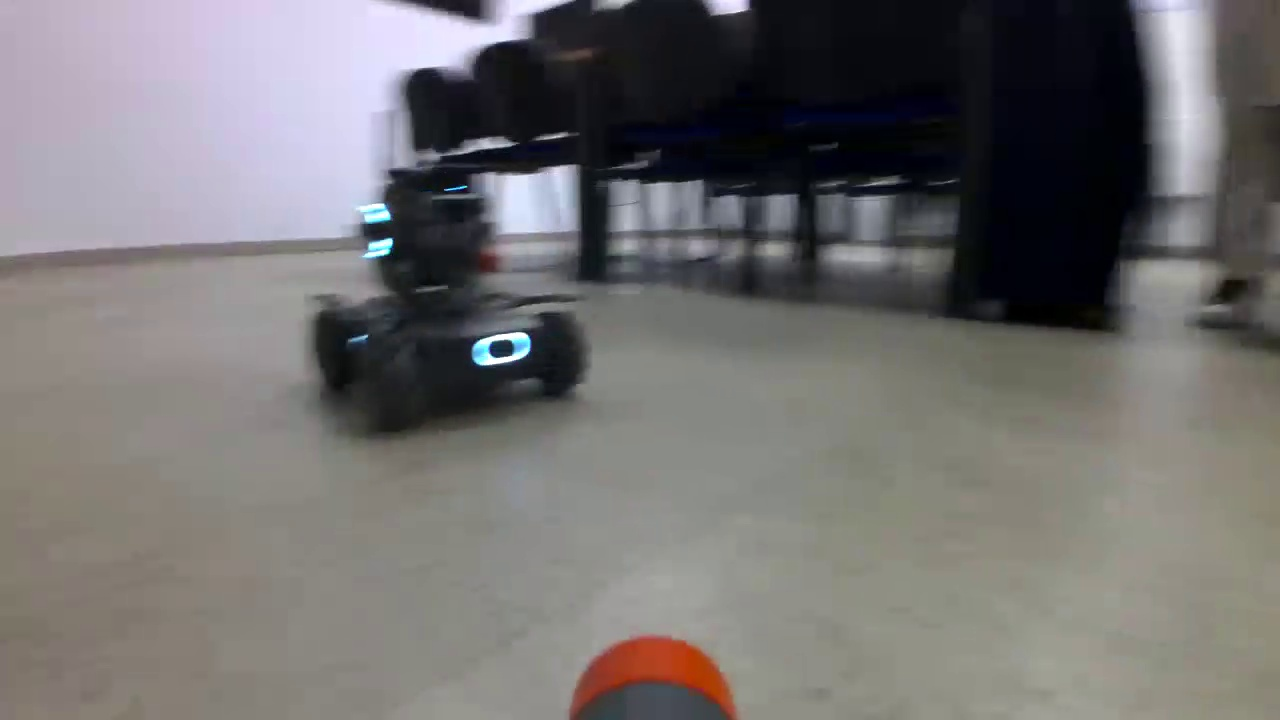robot: (310, 160, 590, 433)
